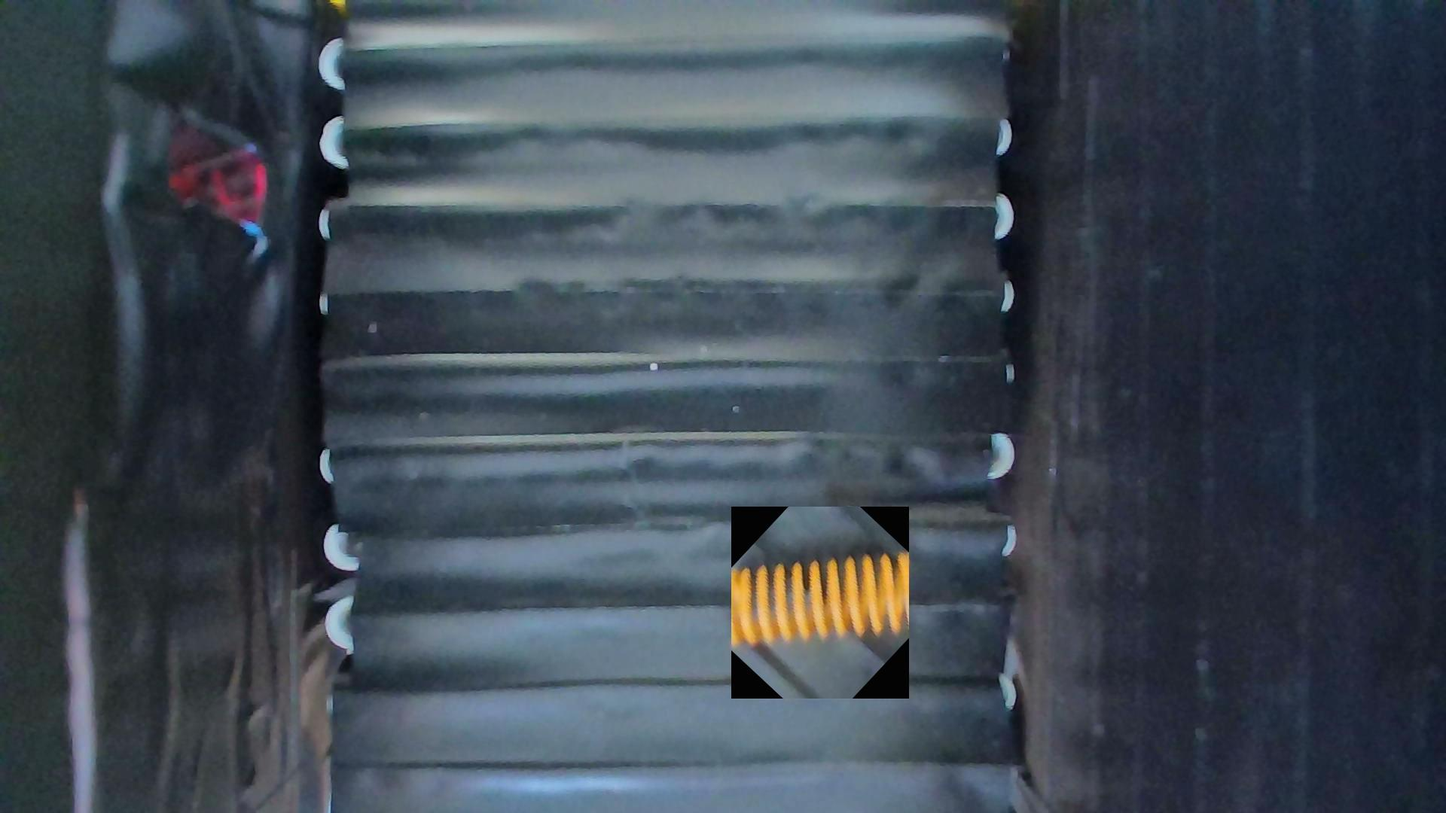spring: (731, 507, 909, 700)
